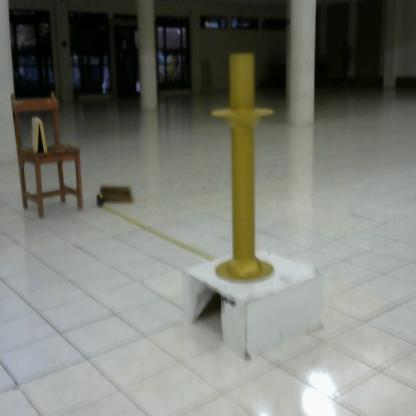pole: (211, 52, 281, 288)
